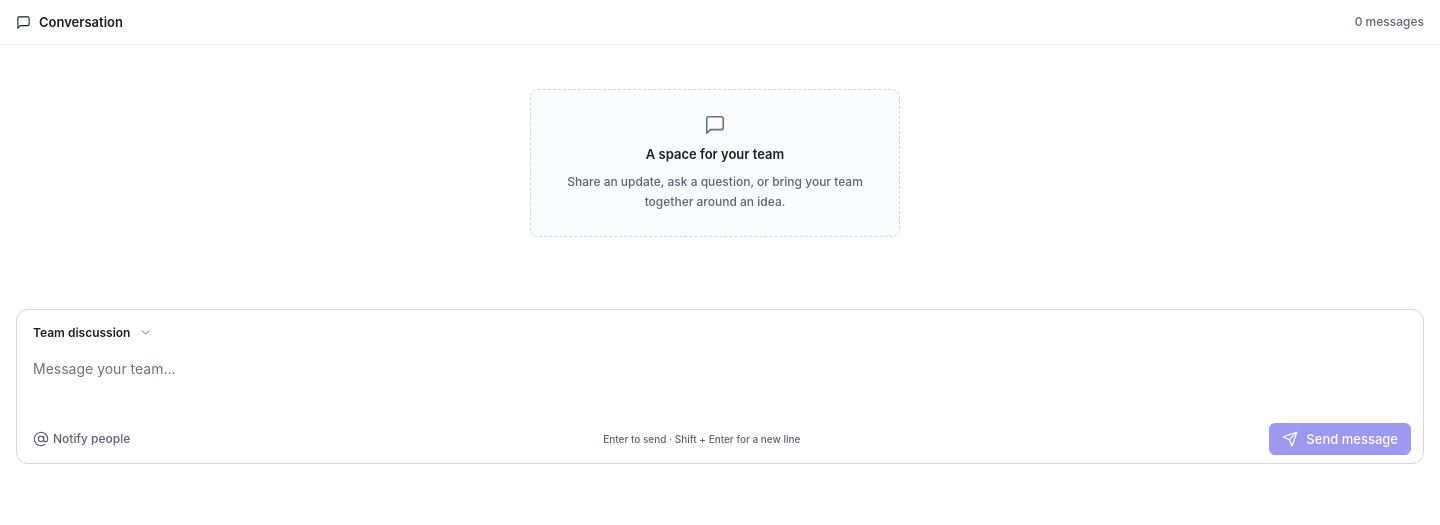
Test: RoomConversation › does not send while committing IME composition or repeating a held Enter key
Step 1. Type "你好" into the text box labelled "Message" → (720, 380), box [17,346,1423,415]
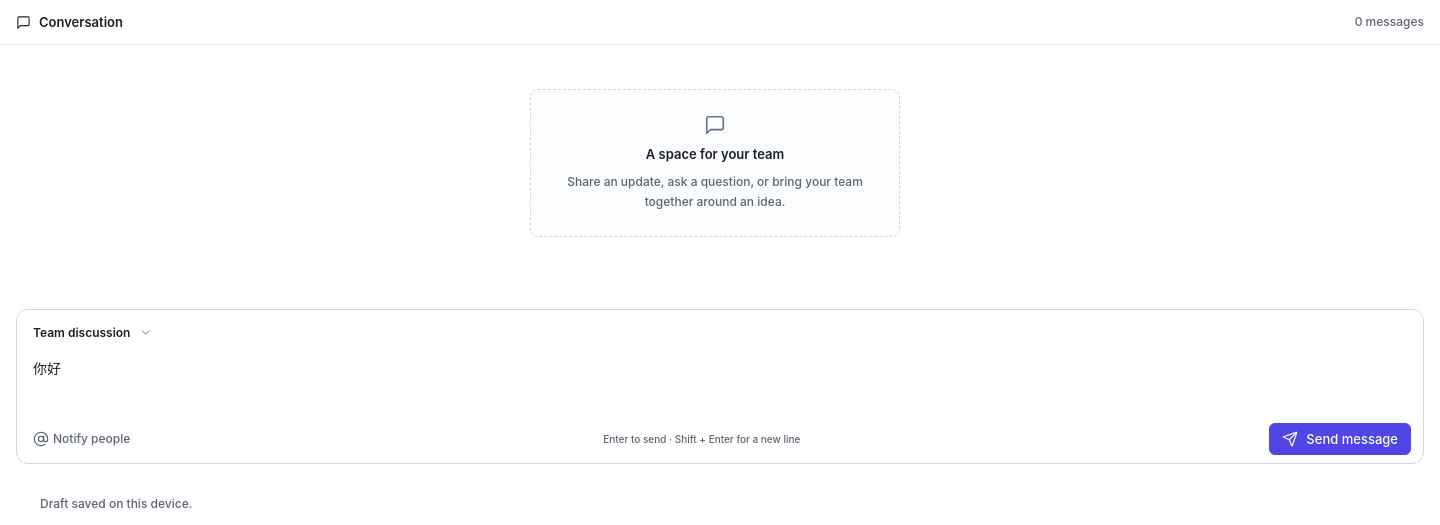
Step 2. Press Enter in the text box named "Message", box [17,346,1423,415]
Step 3. Press Enter in the text box named "Message", box [17,346,1423,415]
Step 4. Press Enter in the text box named "Message", box [17,346,1423,415]
Step 5. Press Enter in the text box named "Message", box [17,346,1423,415]
Step 6. Press Enter in the text box named "Message", box [17,346,1423,415]
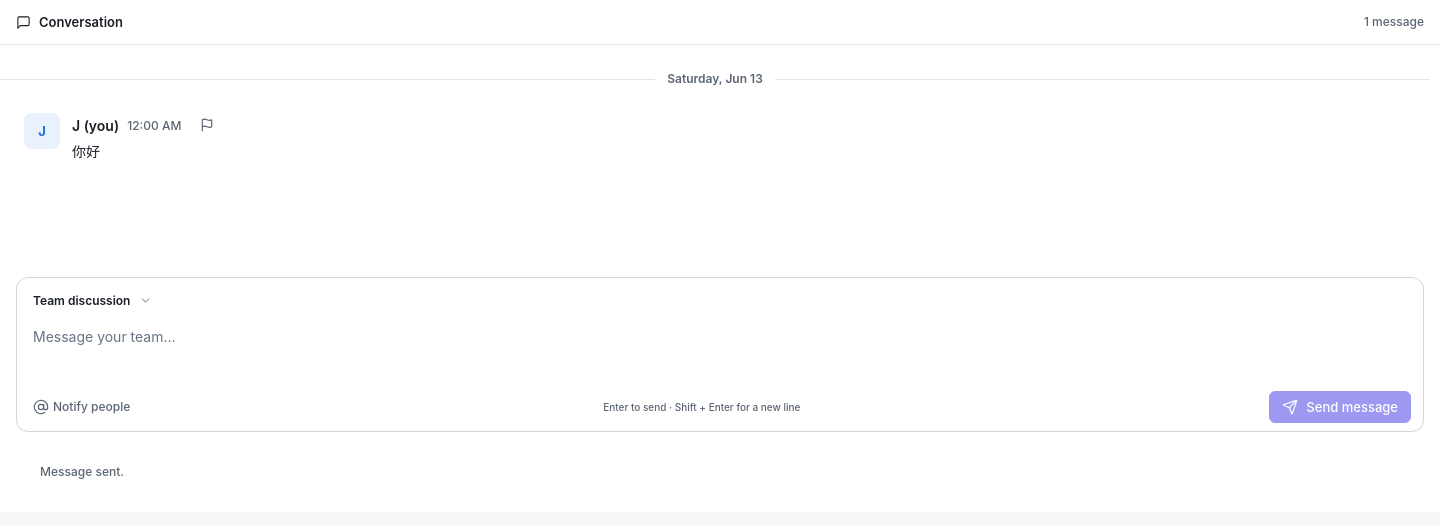
Now the text "Message sent." is shown, box [40,464,124,479]
